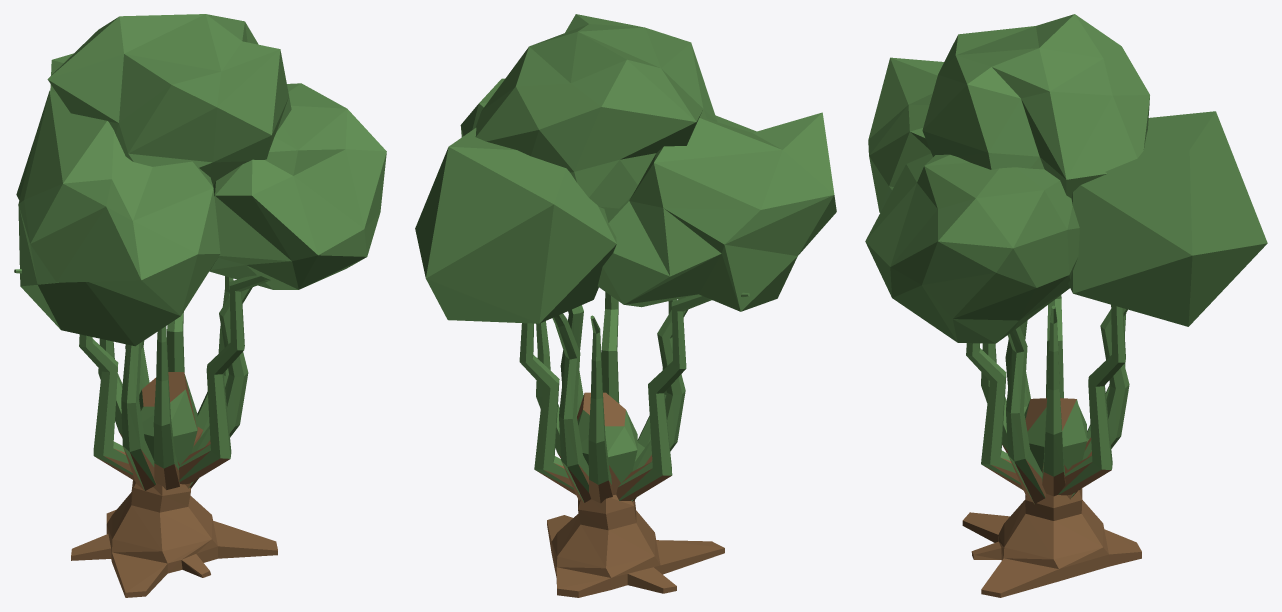
File: tree3d-112.glb
The picture shows the model from 3 angles, left to right: view 1: azimuth 30°, elevation 25°; view 2: azimuth 150°, elevation 25°; view 3: azimuth 270°, elevation 25°; orthographic projection. The views are drawn at different scales.
Parts seen in each view (by area): view 1: tree3d-112; view 2: tree3d-112; view 3: tree3d-112.
Part boxes in pixels (x1=…): tree3d-112: x1=14, y1=14, x2=386, y2=597; tree3d-112: x1=415, y1=14, x2=836, y2=597; tree3d-112: x1=865, y1=14, x2=1267, y2=597.
Size of the model in its own units: 0.6931 by 1 by 0.6931.
